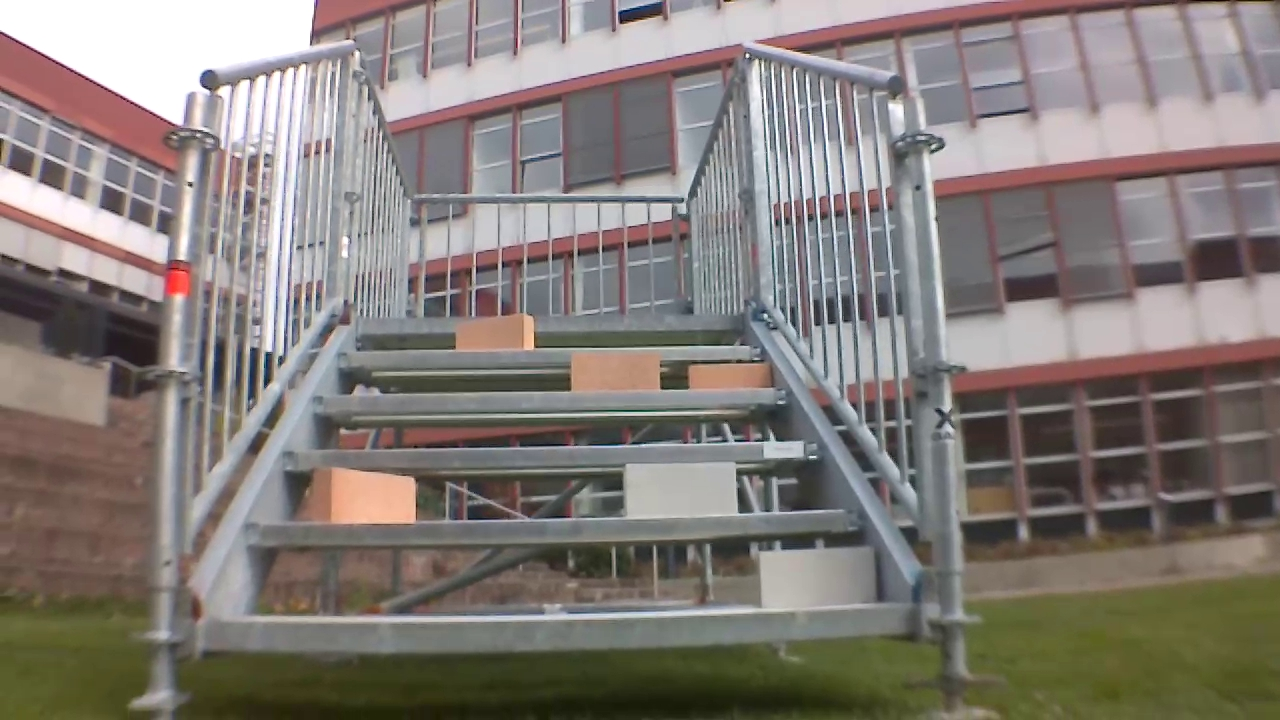brick: (759, 546, 875, 607), (624, 464, 736, 516), (313, 466, 415, 522), (572, 351, 660, 391), (456, 314, 534, 349), (689, 363, 771, 390)
edge: (203, 605, 914, 650), (246, 511, 857, 543), (282, 439, 826, 465), (313, 385, 784, 414), (337, 344, 766, 366), (359, 313, 745, 335)
stairs: (132, 42, 998, 719)
steps: (196, 309, 922, 656)
